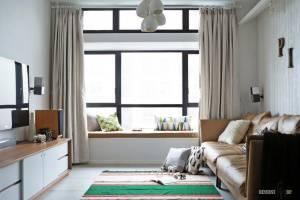window: (78, 6, 203, 131)
